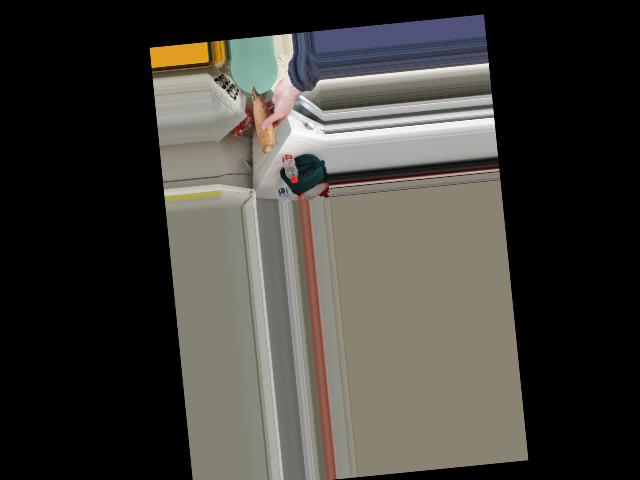sweet_potato: (250, 86, 278, 155)
